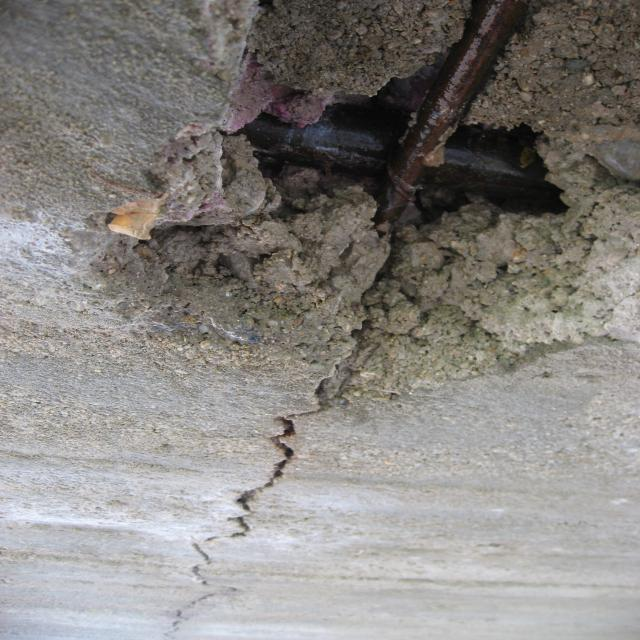corrosion: (224, 0, 601, 250)
